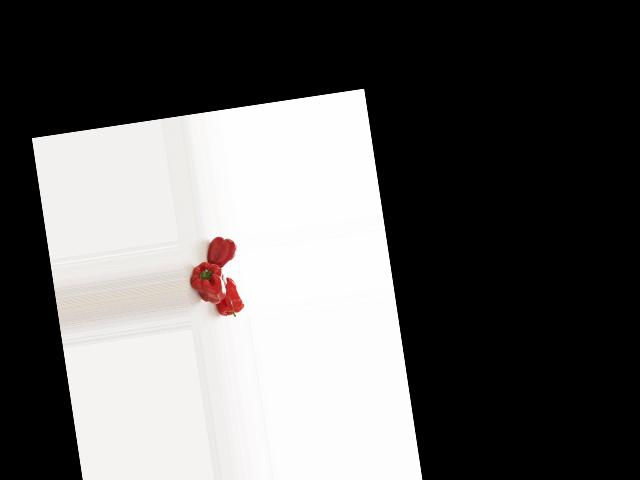bell_pepper: (202, 232, 239, 267)
